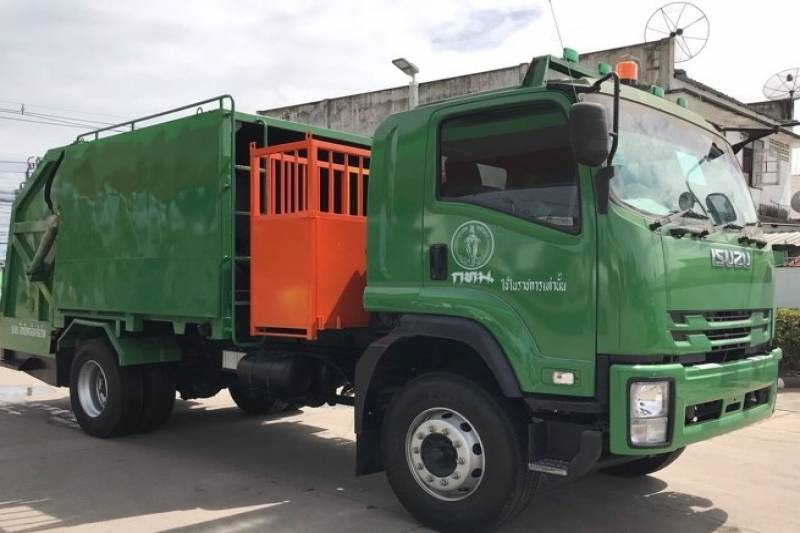truck: (373, 80, 777, 533)
